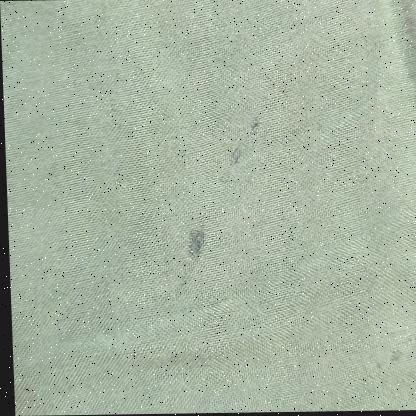spot: (176, 205, 214, 263), (215, 139, 243, 178), (373, 340, 409, 369), (243, 110, 263, 139)
